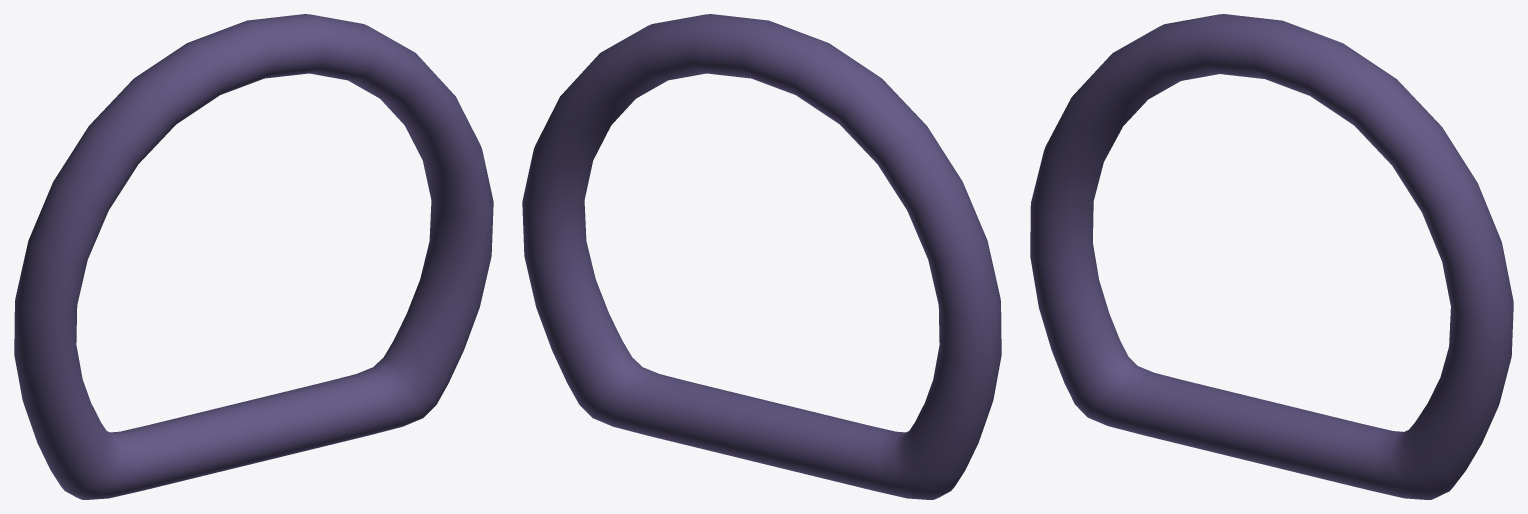
Rendered from Ring.fbx.
3 renders of one model, left to right at view 1: azimuth 30°, elevation 25°; view 2: azimuth 150°, elevation 25°; view 3: azimuth 330°, elevation 25°, orthographic.
Parts seen in each view (by area): view 1: Torus.001; view 2: Torus.001; view 3: Torus.001.
Part boxes in pixels (left/top/right/bottom): Torus.001: left=14, top=14, right=493, bottom=499; Torus.001: left=522, top=14, right=1001, bottom=499; Torus.001: left=1030, top=14, right=1513, bottom=499.
Bounding box in the file's own units: 5.3 × 4.69 × 0.6797.
